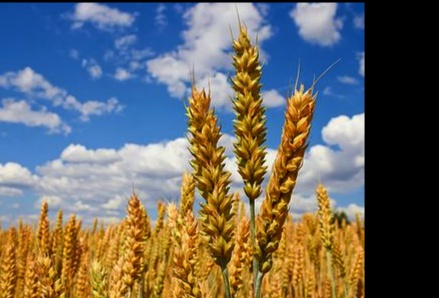wheat: (257, 86, 307, 277), (183, 77, 229, 272), (230, 24, 268, 201)
